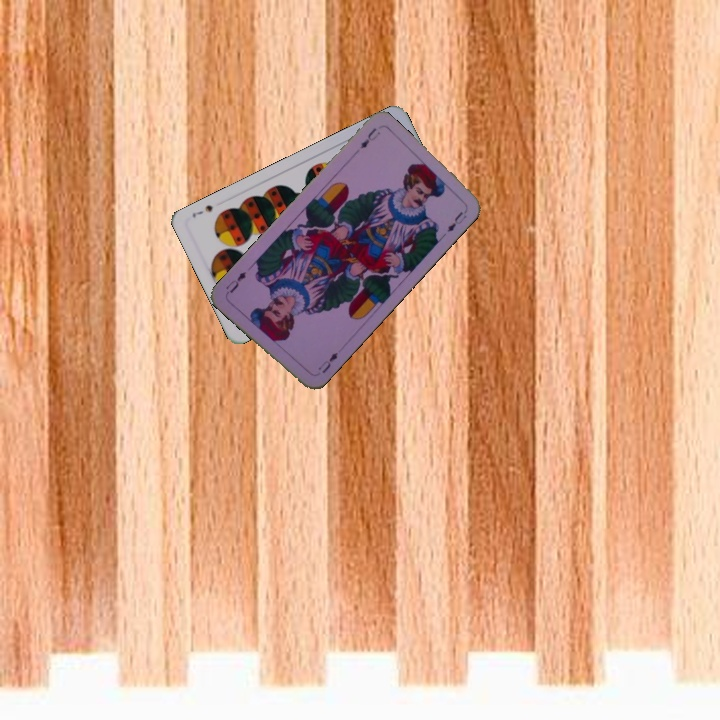EU: (314, 348, 341, 376), (356, 124, 383, 152)
